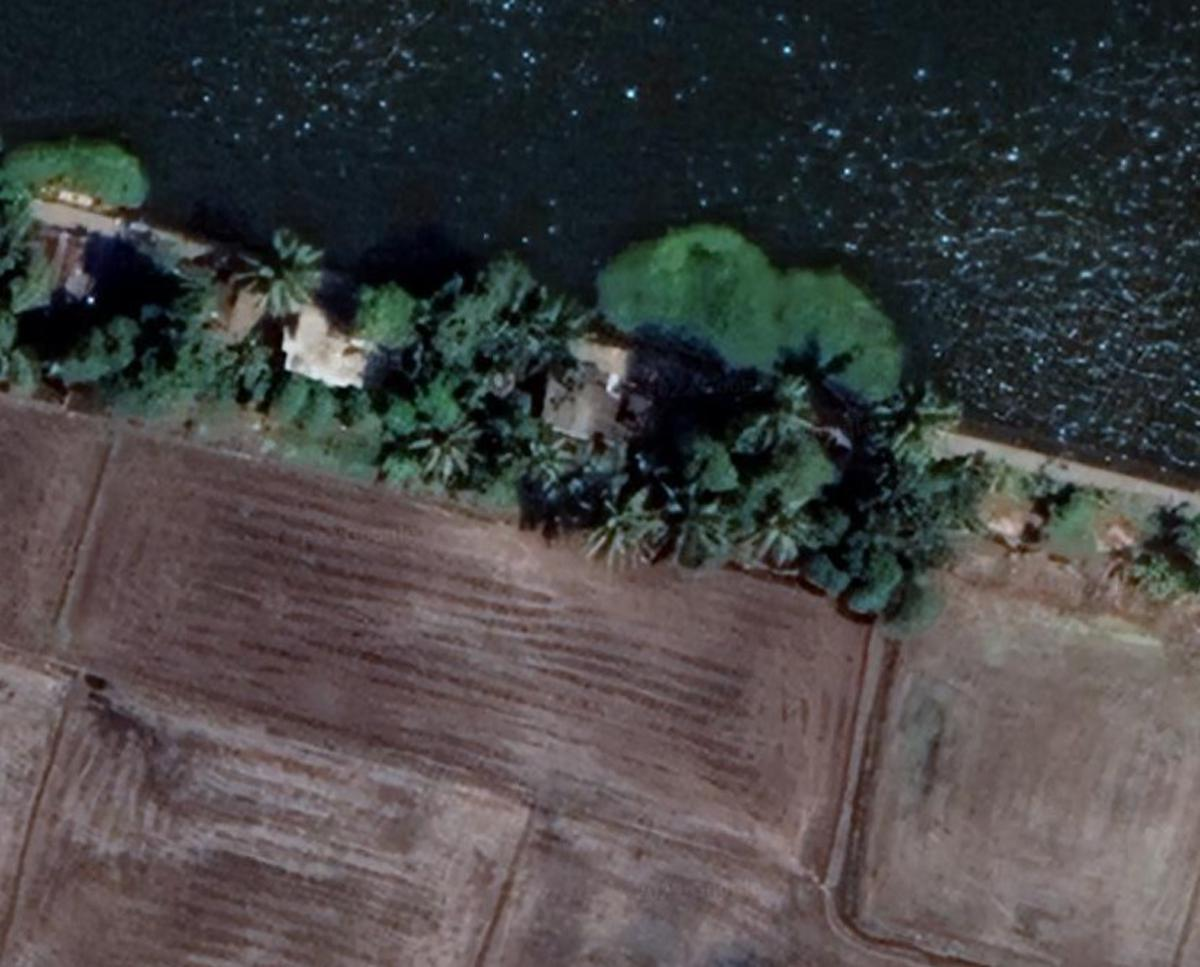coconut: (228, 223, 340, 316), (568, 482, 668, 561), (643, 475, 734, 558), (513, 427, 610, 504), (756, 488, 840, 572), (876, 375, 947, 472), (405, 403, 488, 479), (753, 369, 833, 442)
